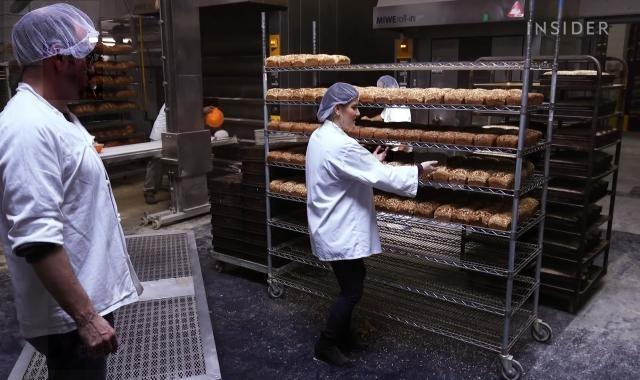gloves: (4, 1, 99, 65), (316, 83, 358, 120), (376, 74, 399, 88)
no_apron: (49, 305, 140, 370), (414, 149, 447, 179), (361, 141, 394, 162), (202, 98, 218, 119)
no_hairnet: (44, 43, 104, 101), (332, 102, 366, 131)
